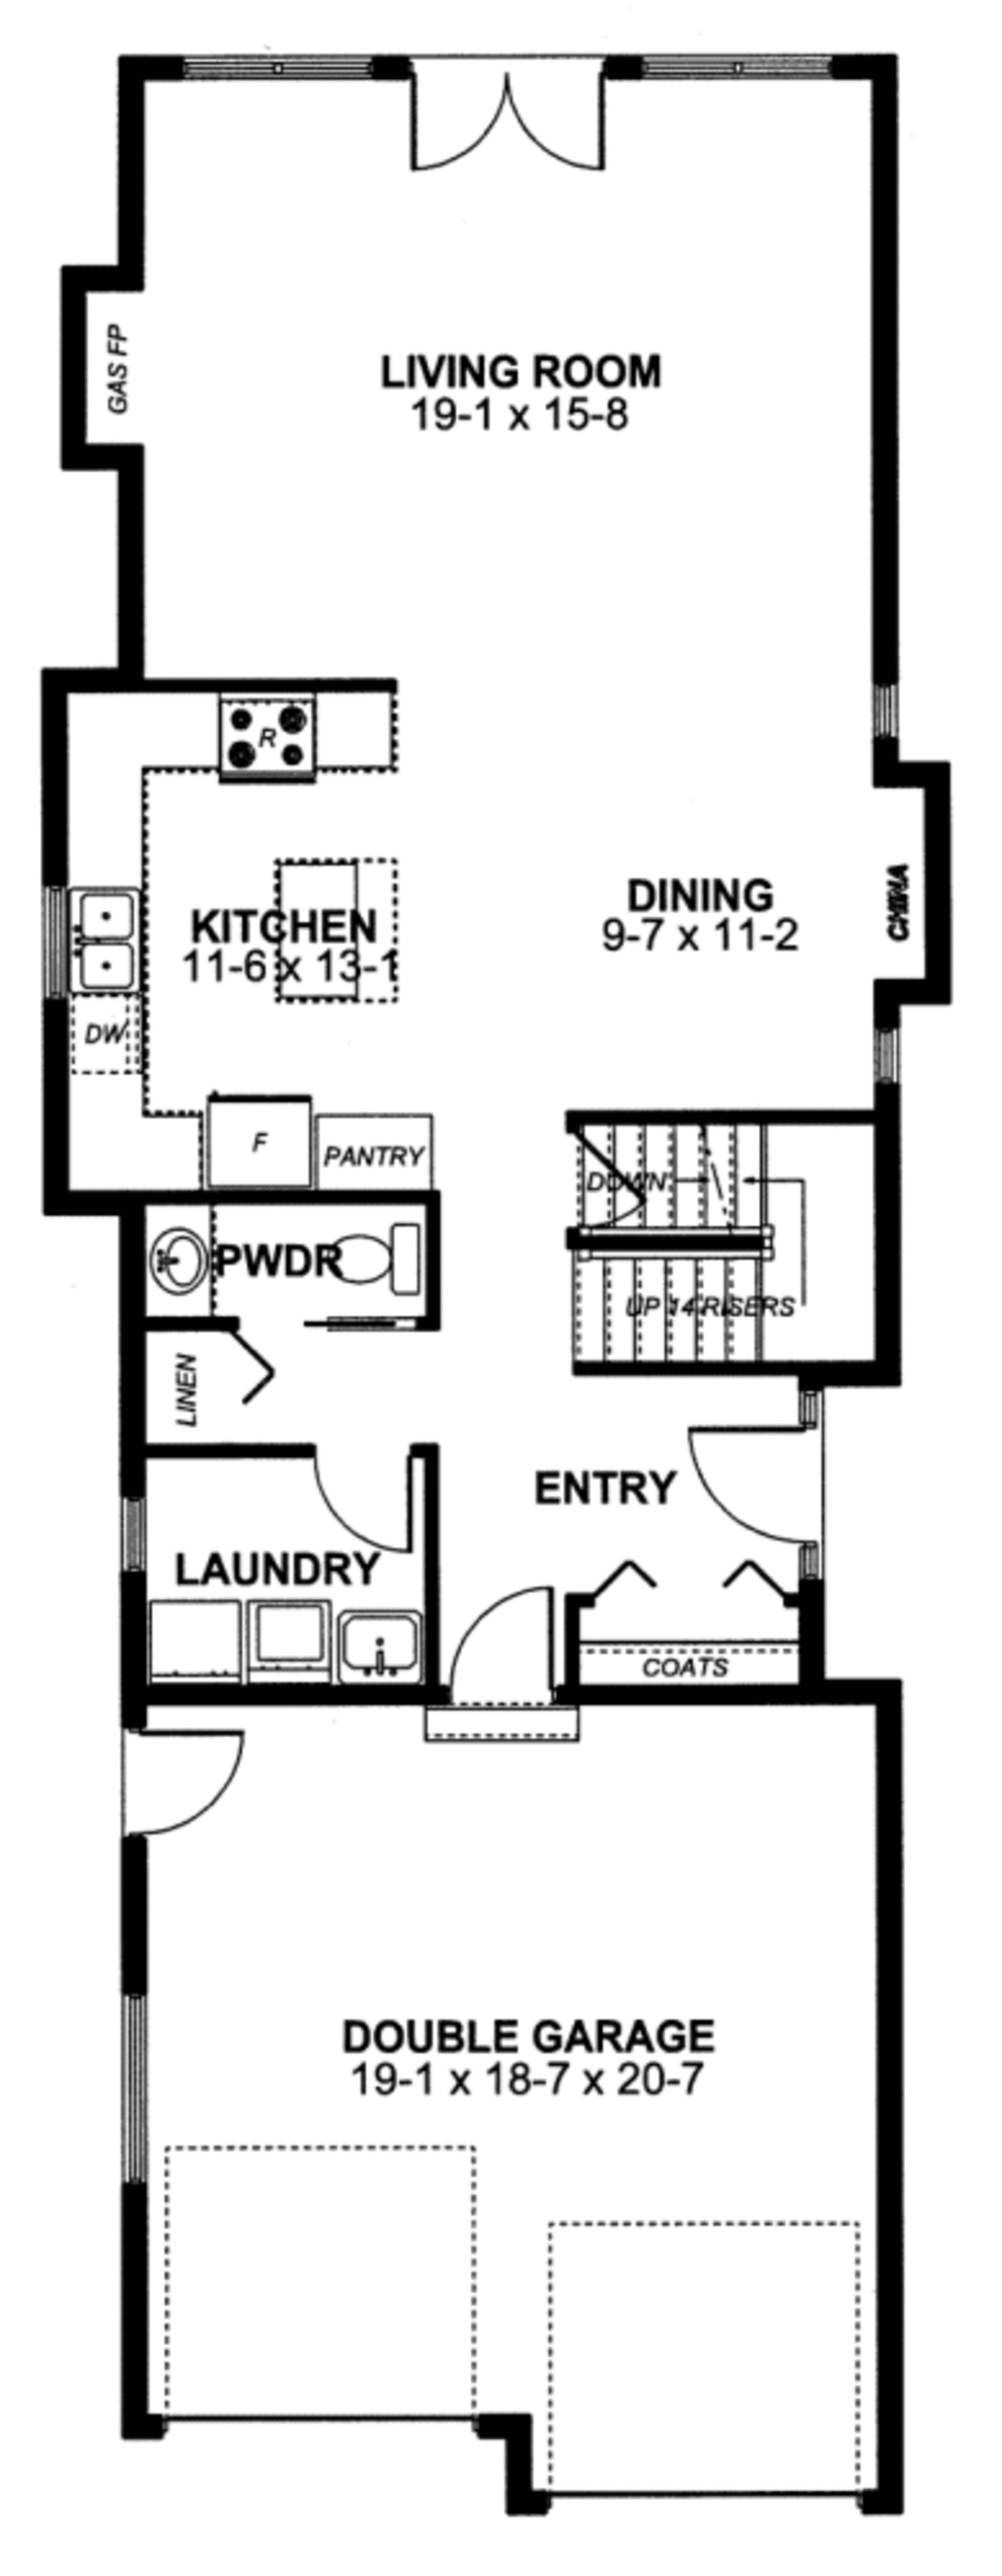door: (412, 16, 601, 205), (123, 1713, 266, 1856), (434, 1584, 575, 1725), (690, 1424, 830, 1562), (304, 1428, 425, 1549)
kitchen_bar: (283, 841, 450, 1009)
large_sink: (307, 1207, 434, 1334)
sink: (332, 1598, 445, 1713)
small_sink: (140, 1216, 222, 1296)
stairs: (572, 1097, 857, 1383)
twin_sink: (38, 890, 172, 1023)
window: (176, 2, 396, 220), (646, 8, 843, 207)
